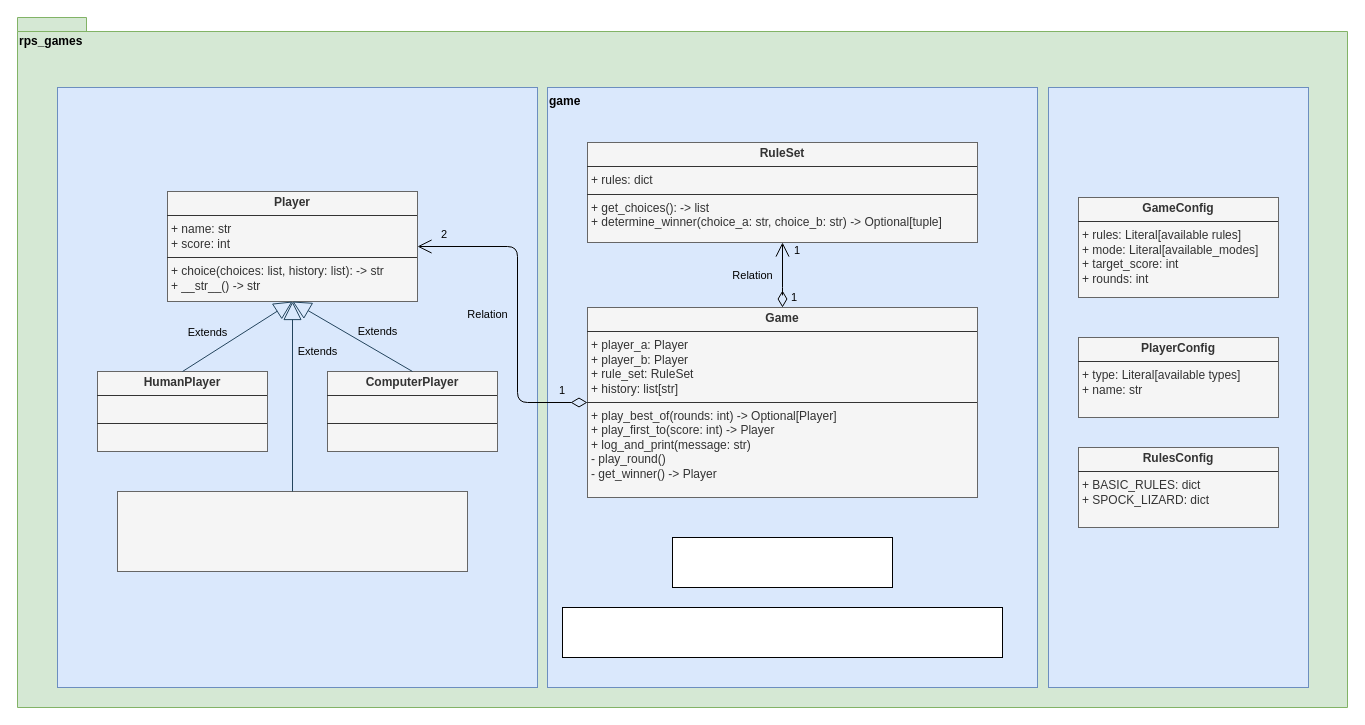
This 1365x725 diagram has some shape labels left out. The box of each missing label's shape, as (x1, y1, x2, y2) in pixels:
configs: (1048, 86, 1308, 688)
init_player(player_config: PlayerConfig, rules: Optional[dict]) -> Player: (562, 606, 1002, 658)
LLMPlayer - generate_promt(choices: list, history: list) -> PromptTemplate: (116, 490, 468, 572)
main(config: dict, defined_rules: dict): (672, 536, 892, 588)
players: (56, 86, 538, 688)
